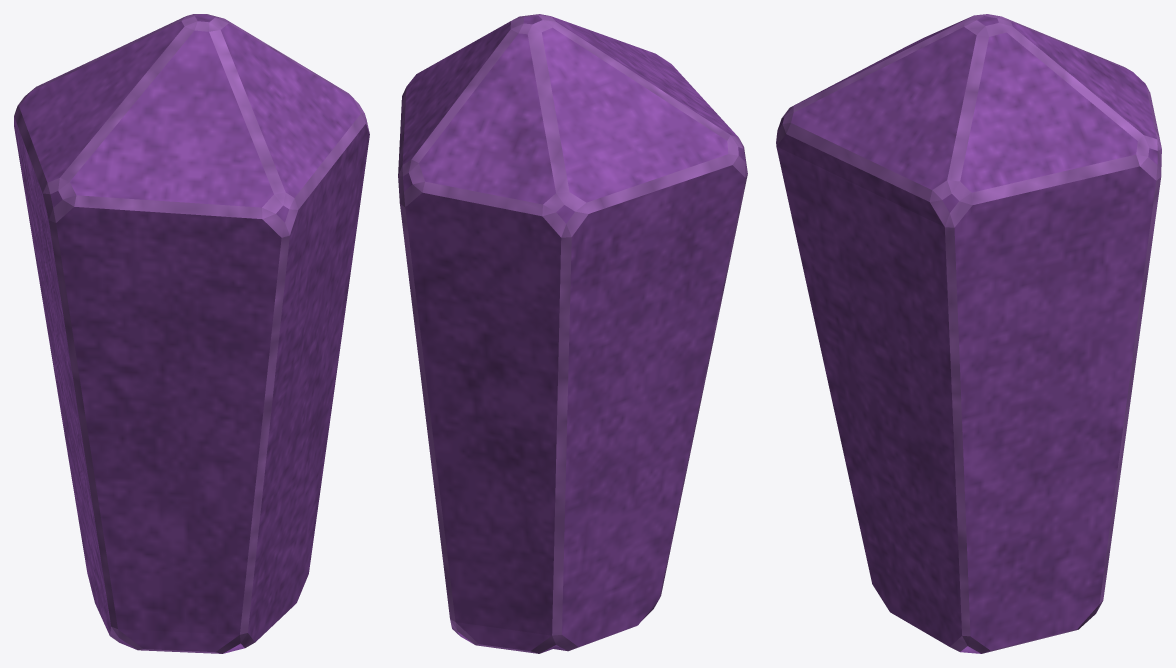
Rendered from crystals.fbx.
3 renders of one model, left to right at view 1: azimuth 30°, elevation 25°; view 2: azimuth 150°, elevation 25°; view 3: azimuth 270°, elevation 25°, orthographic.
Parts seen in each view (by area): view 1: plane; view 2: plane; view 3: plane.
Part boxes in pixels (left/top/right/bottom): plane: left=14, top=14, right=369, bottom=653; plane: left=398, top=14, right=747, bottom=653; plane: left=776, top=14, right=1161, bottom=653.
Bounding box in the file's own units: 224 × 386 × 226.
Materials: 2 (2 with a texture image).
